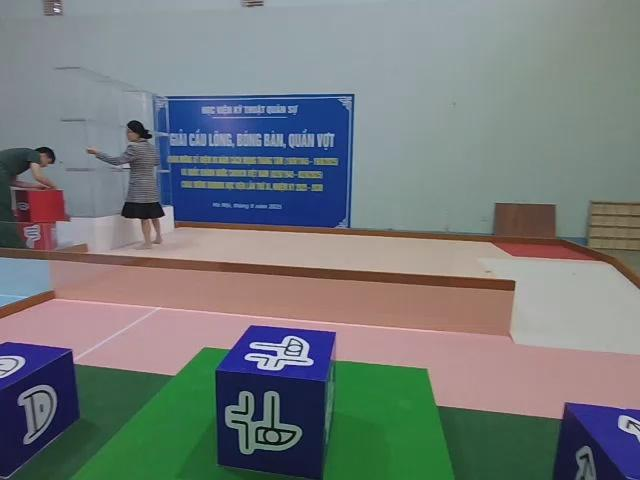R2 Real Blue: (216, 328, 338, 480), (0, 344, 78, 480), (548, 403, 638, 479)
